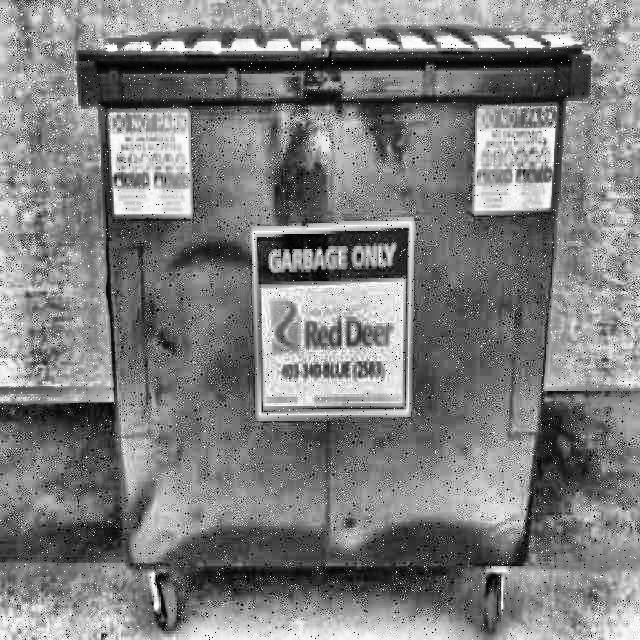Dustbin: (75, 22, 603, 636)
